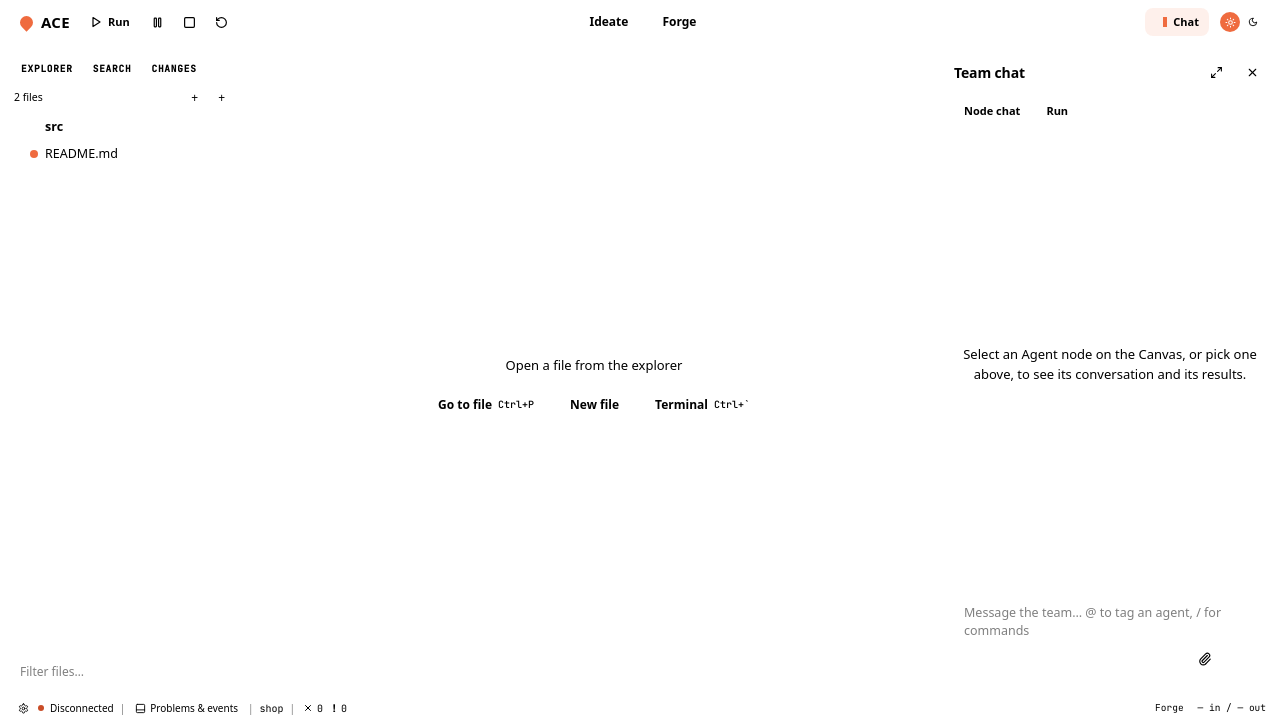
Test: D334 FR-GIT-003 Forge in the theme’s code view › hides and shows the Explorer with Ctrl+B, and remembers; Ctrl+J shows and hides the Problems panel (D299)
Expected: the element named "Files of Shop" is shown, [30,118,118,162]
Type keys "{Control>}b{/Control}"
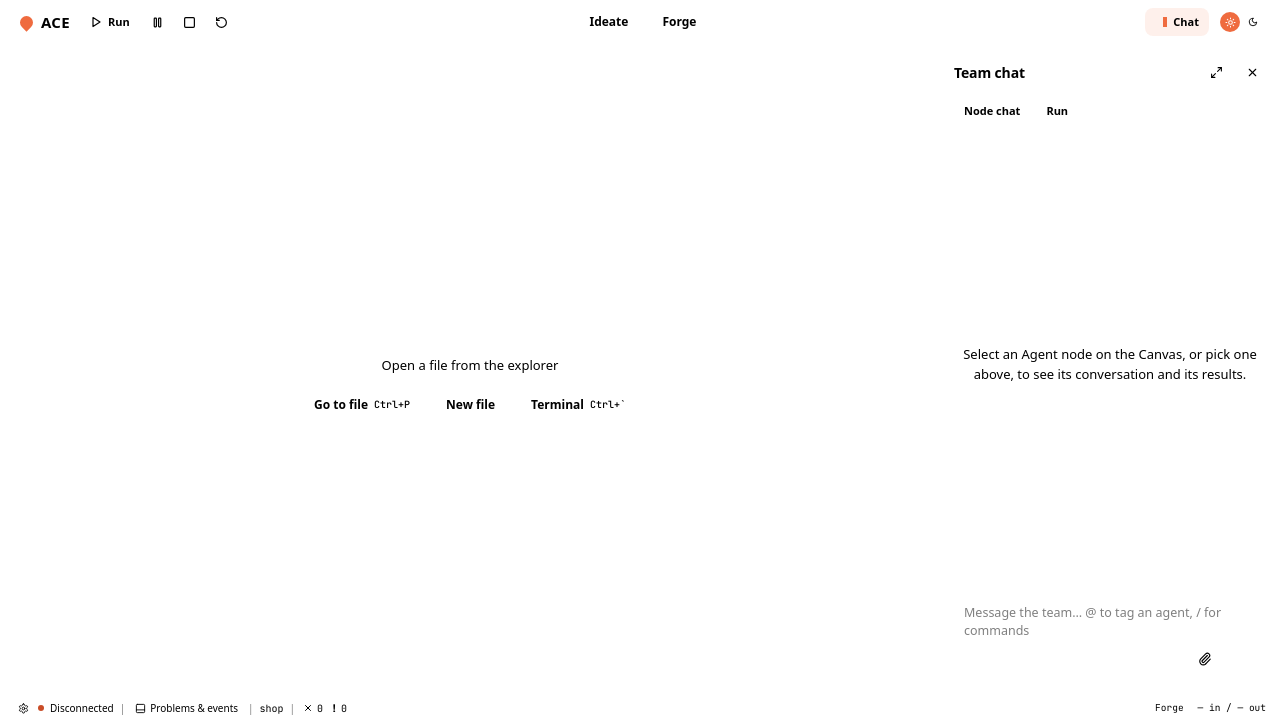
Type keys "{Control>}b{/Control}"
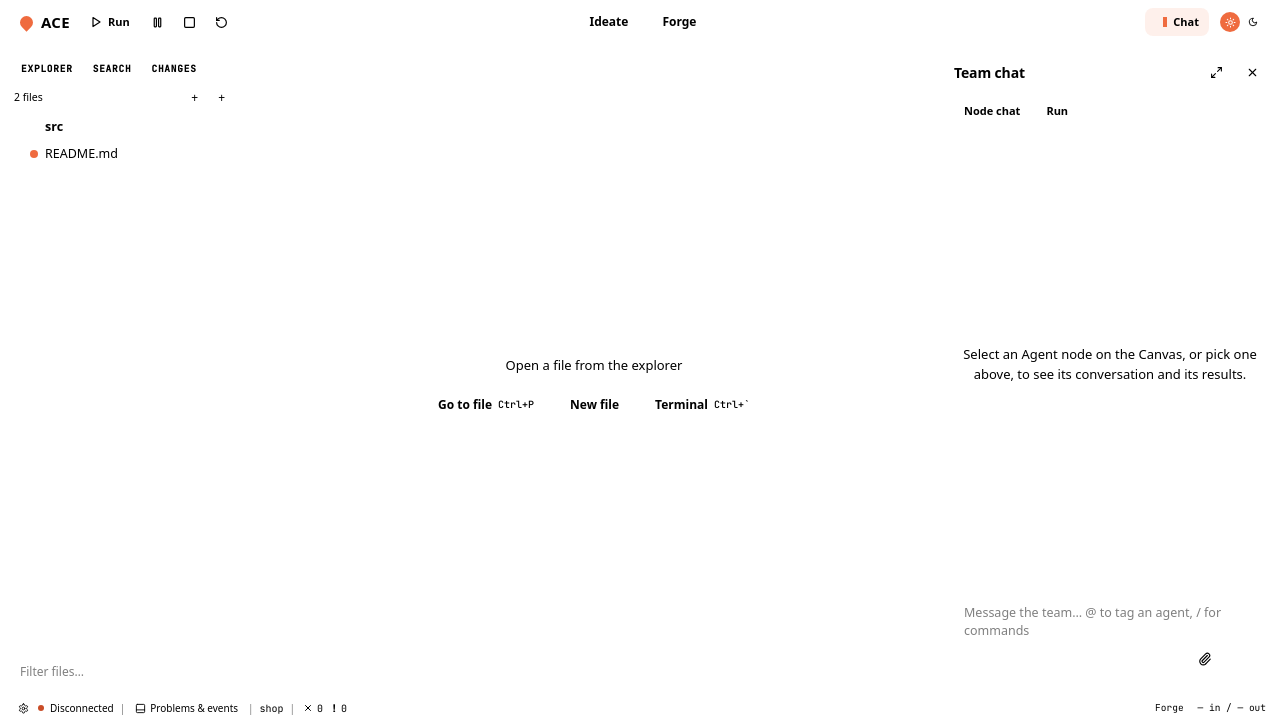
Expected: the element named "Files of Shop" is shown, [30,118,118,162]
Type keys "{Control>}j{/Control}"
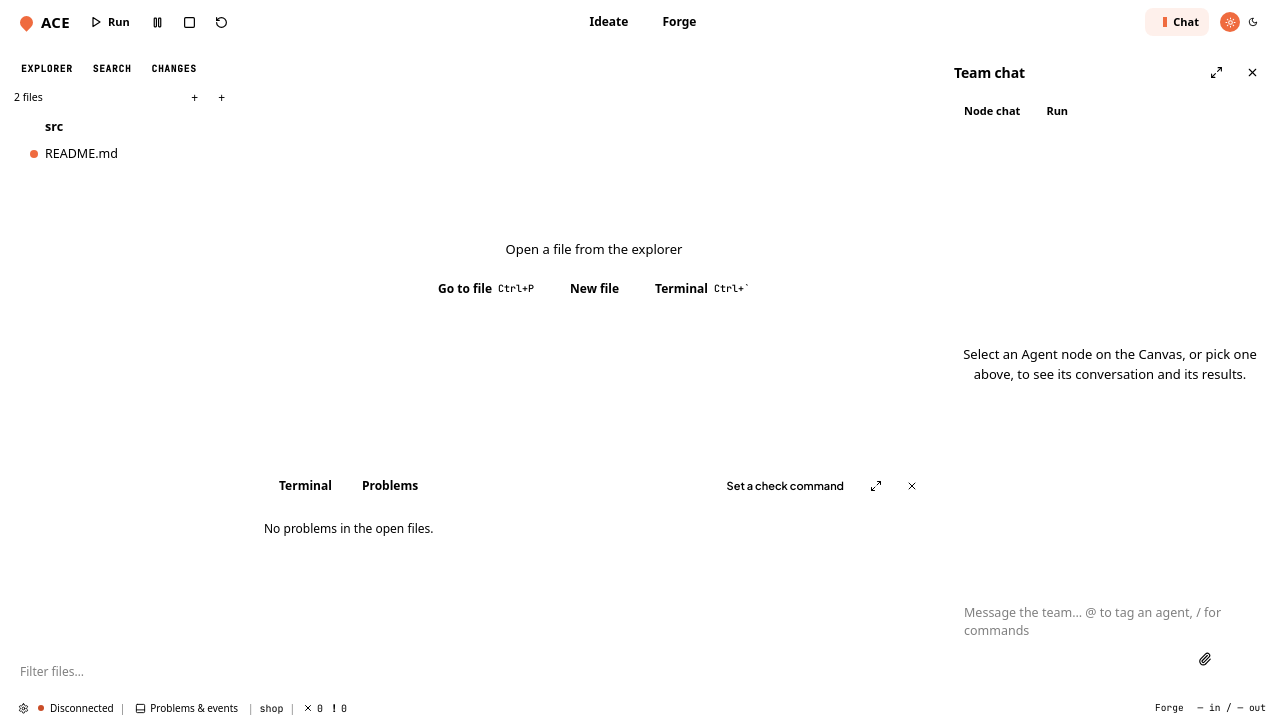
Expected: the text "No problems in the open files." is shown, [264,520,434,537]
Type keys "{Control>}j{/Control}"
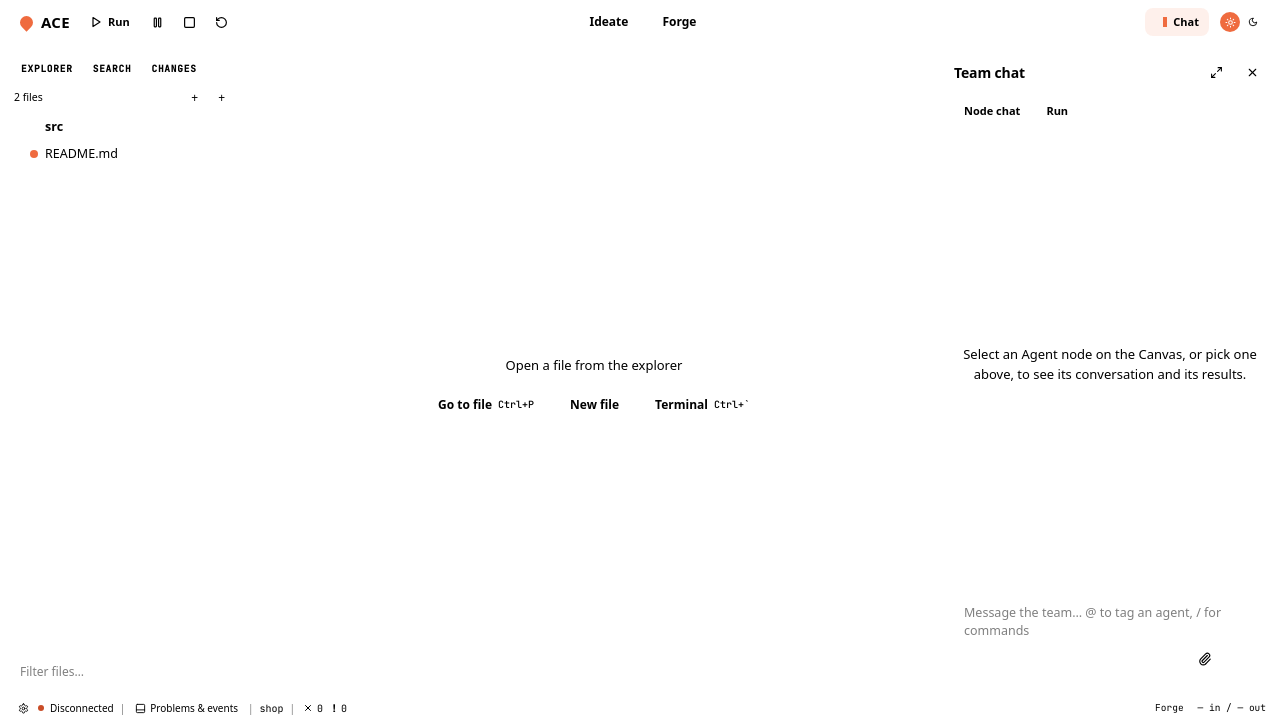
Expected: the element "Panel" is gone
Type keys "{Control>}j{/Control}"
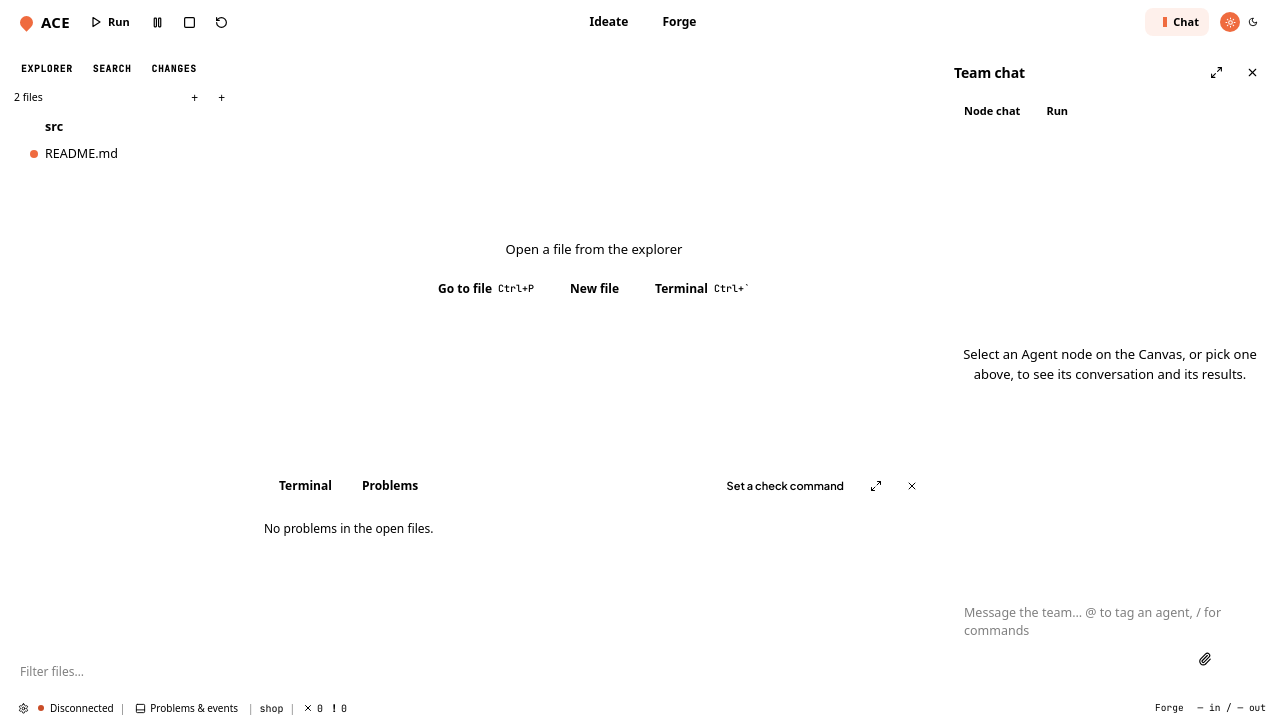
Click the button named "Close panel" at point(912, 486), box [898,472,926,500]
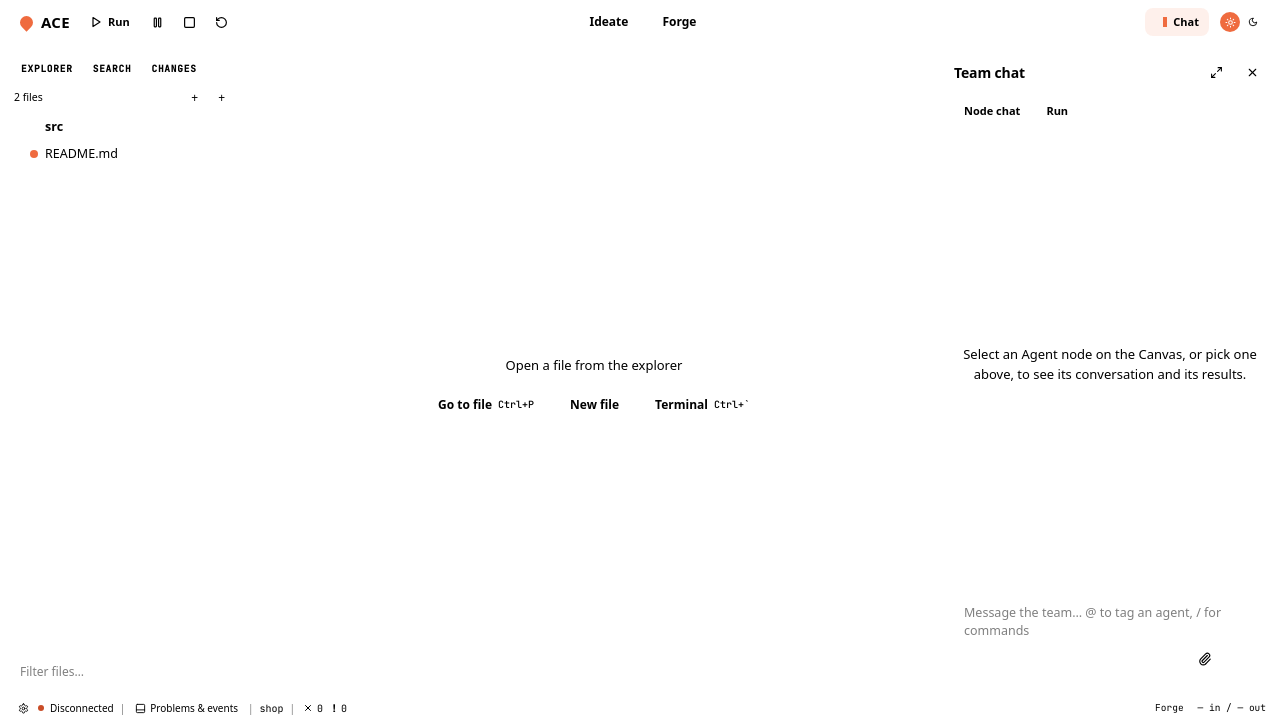
Expected: the element "Panel" is gone
